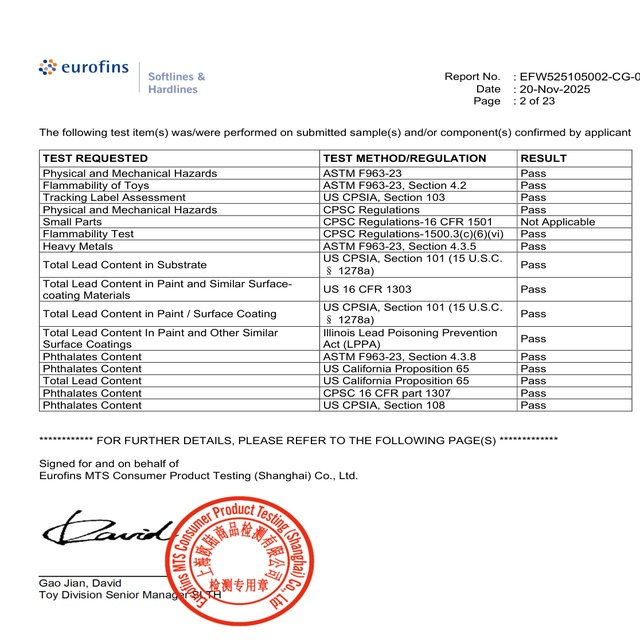eurofins: (36, 53, 131, 85)
